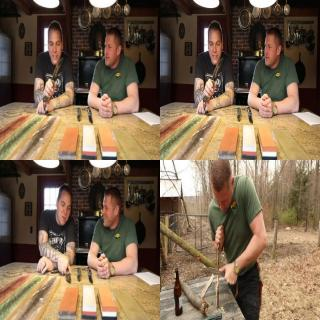knife: (45, 53, 65, 93), (205, 54, 225, 92), (206, 262, 232, 286), (58, 262, 72, 288)
